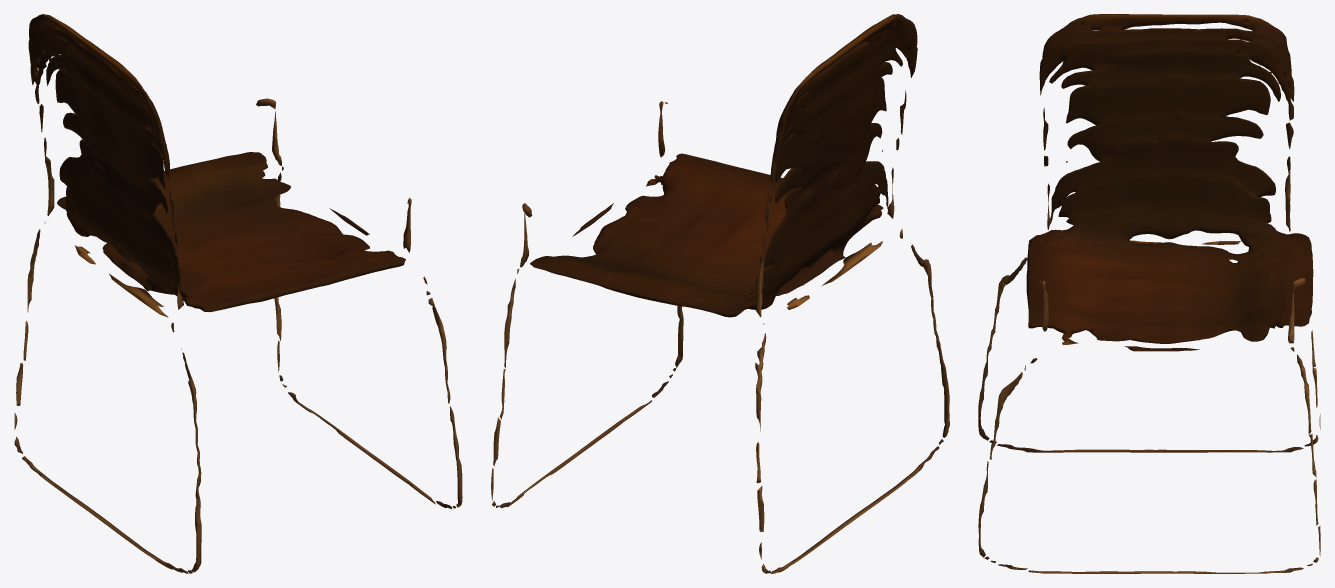
Rendered from Brown plastic s-chair with no armrests and a bronz.glb.
3 renders of one model, left to right at view 1: azimuth 30°, elevation 25°; view 2: azimuth 150°, elevation 25°; view 3: azimuth 270°, elevation 25°, orthographic. The views are drawn at different scales.
Visible parts, largest first — view 1: Brown plastic s-chair with no armrests and a bronz; view 2: Brown plastic s-chair with no armrests and a bronz; view 3: Brown plastic s-chair with no armrests and a bronz.
Boxes of the visible parts, x1,y1,x2,y2 form: Brown plastic s-chair with no armrests and a bronz: (14,14,462,573); Brown plastic s-chair with no armrests and a bronz: (491,14,949,573); Brown plastic s-chair with no armrests and a bronz: (978,14,1320,573).
Bounding box in the file's own units: 1.21 × 1.98 × 1.41.
